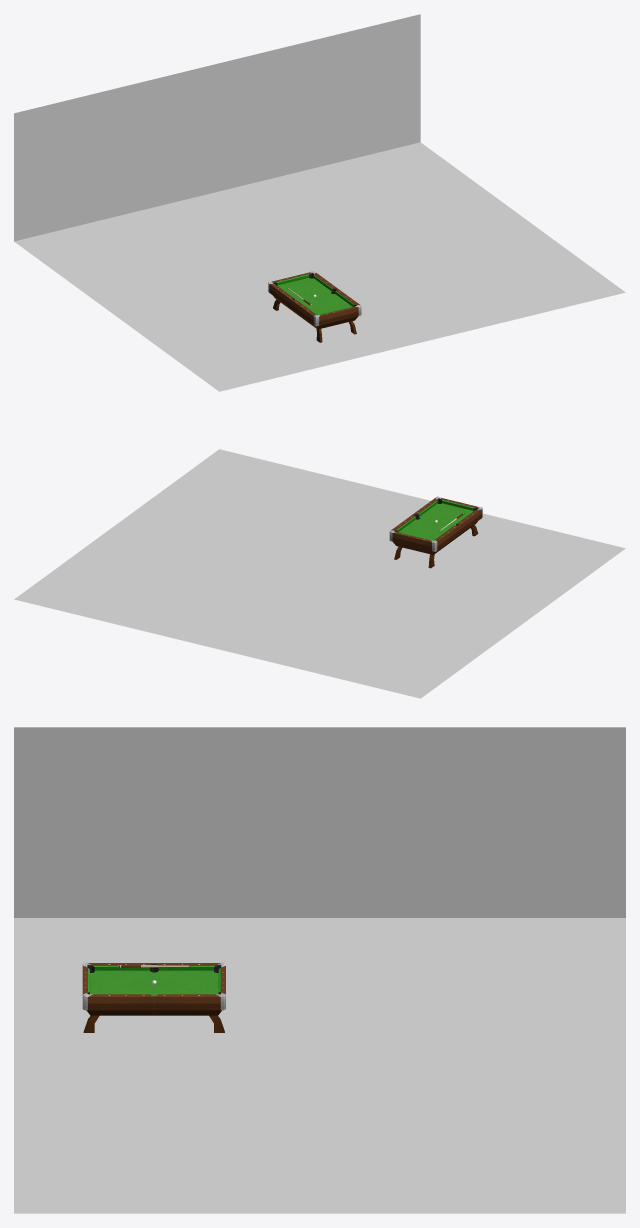
The model's file is billarScene.glb.
The picture shows the model from 3 angles, top to bottom: view 1: azimuth 30°, elevation 25°; view 2: azimuth 150°, elevation 25°; view 3: azimuth 270°, elevation 25°; orthographic projection. The views are drawn at different scales.
Visible parts, largest first — view 1: Plane, Cube.001; view 2: Plane, Cube.001; view 3: Plane, Cube.001.
Boxes of the visible parts, x1,y1,x2,y2 form: Plane: [14, 14, 625, 391]; Cube.001: [268, 271, 361, 342]; Plane: [14, 449, 625, 698]; Cube.001: [389, 496, 482, 568]; Plane: [14, 727, 625, 1213]; Cube.001: [82, 962, 225, 1032].
Bounding box in the file's own units: 28.34 × 8.53 × 24.79.
Materials: 3 (2 with a texture image).
